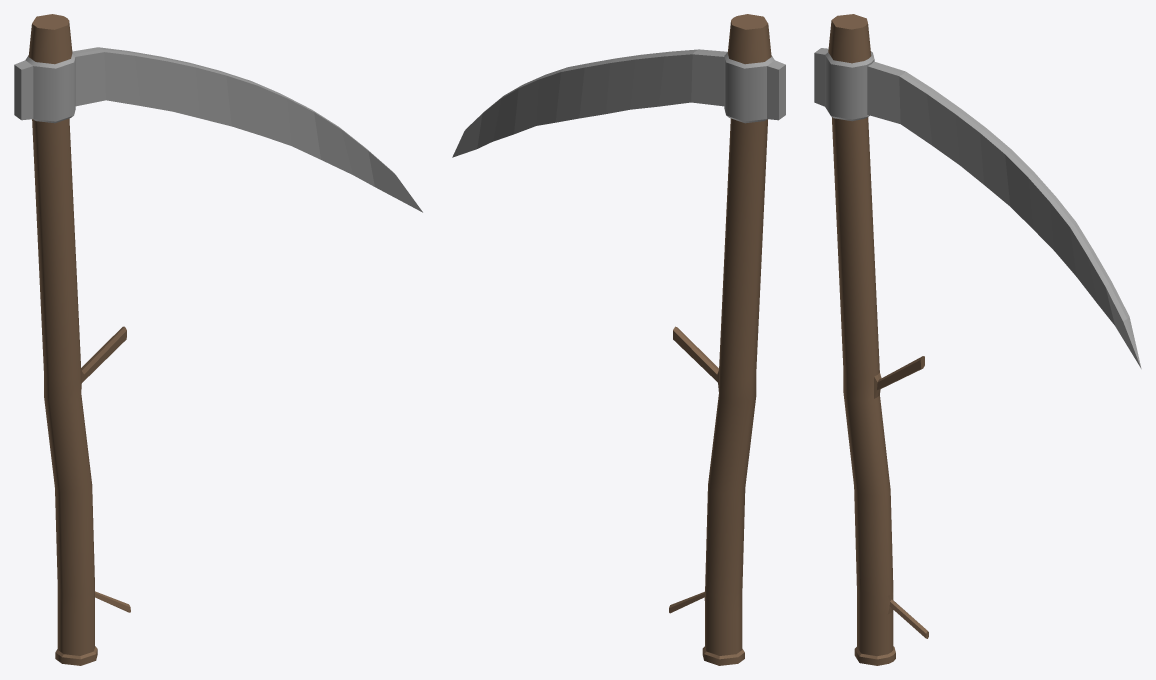
Rendered from Scythe2.fbx.
3 views of the same model, side by side, from view 1: azimuth 30°, elevation 25°; view 2: azimuth 150°, elevation 25°; view 3: azimuth 330°, elevation 25° (orthographic).
Parts seen in each view (by area): view 1: polySurface1; view 2: polySurface1; view 3: polySurface1.
Part boxes in pixels (bbox=[...]): polySurface1: bbox=[14, 14, 422, 665]; polySurface1: bbox=[452, 14, 785, 665]; polySurface1: bbox=[814, 14, 1141, 665].
Bounding box in the file's own units: 6.25 × 10.41 × 1.47.
